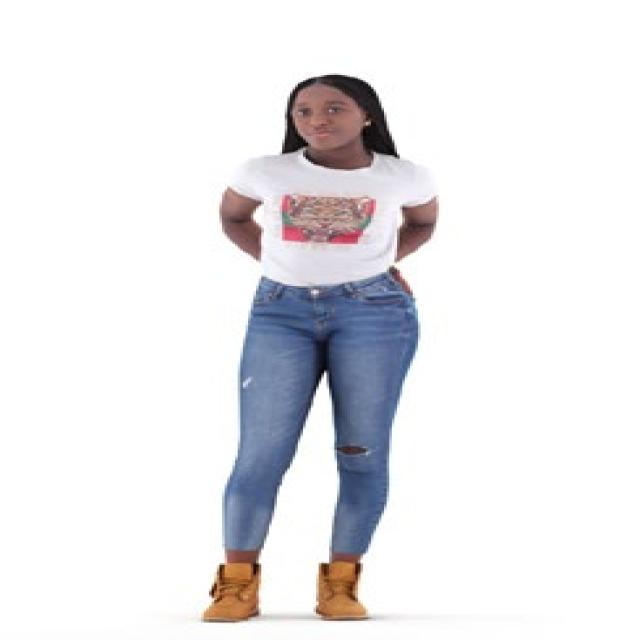standing: (193, 67, 449, 630)
